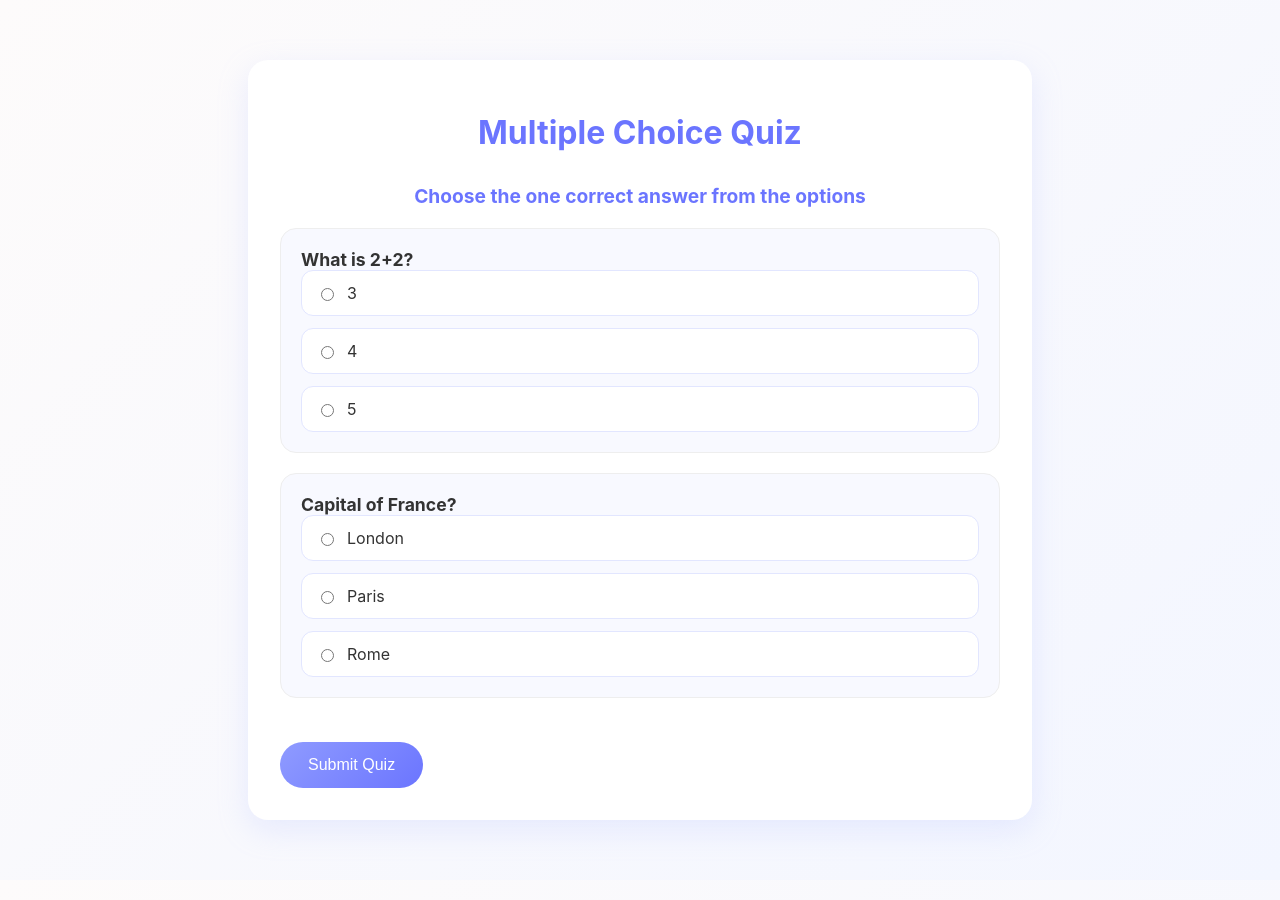
Test: QuizPage Component › calculates score correctly after answering all questions
// Select correct answers
What coordinates should you click on to do the following:
click the radio button labelled "4"
I would click on:
 (328, 352)
Its box is x1=321 y1=346 x2=334 y2=359.
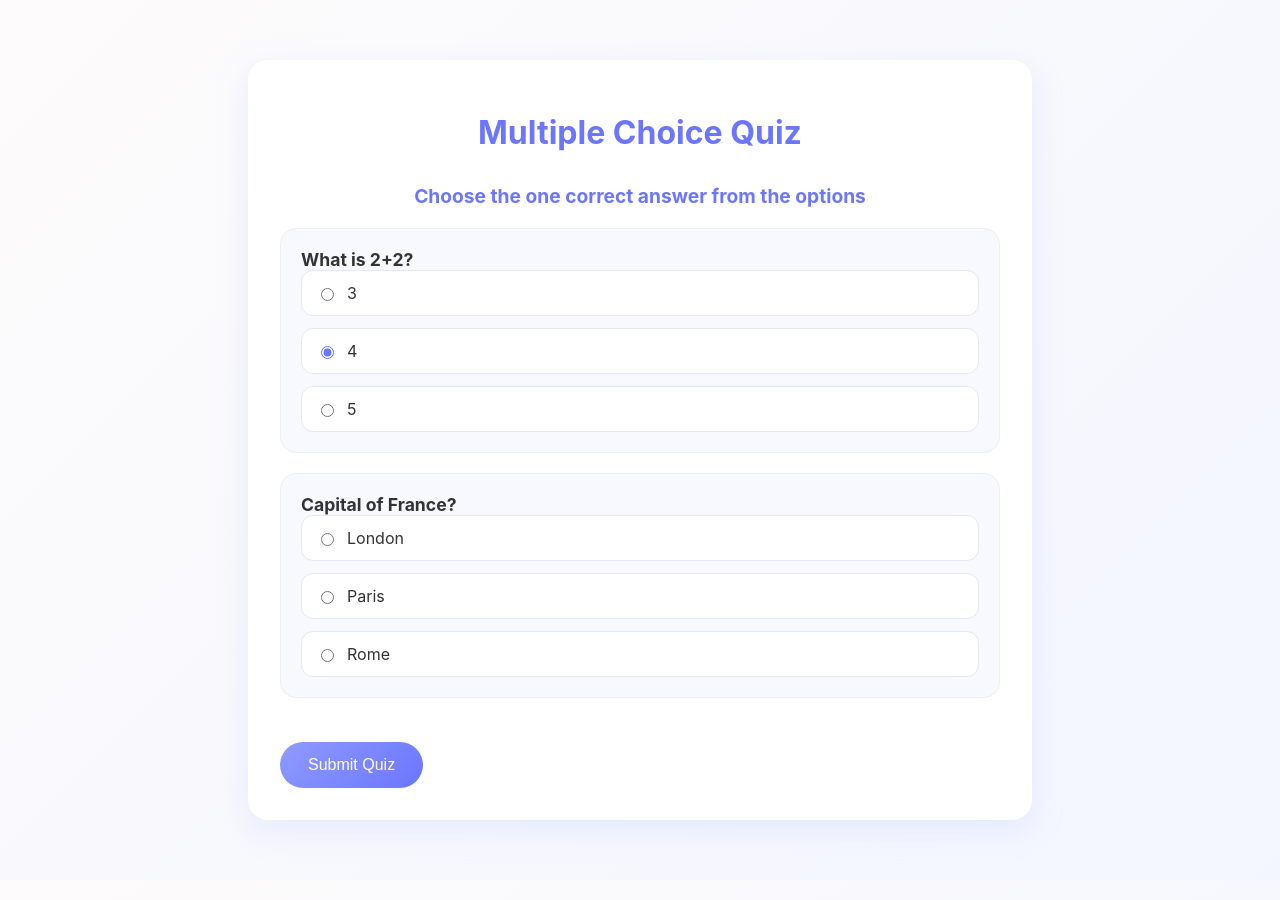
What coordinates should you click on to do the following:
click the radio button labelled "Paris"
I would click on:
 (328, 597)
Its box is x1=321 y1=591 x2=334 y2=604.
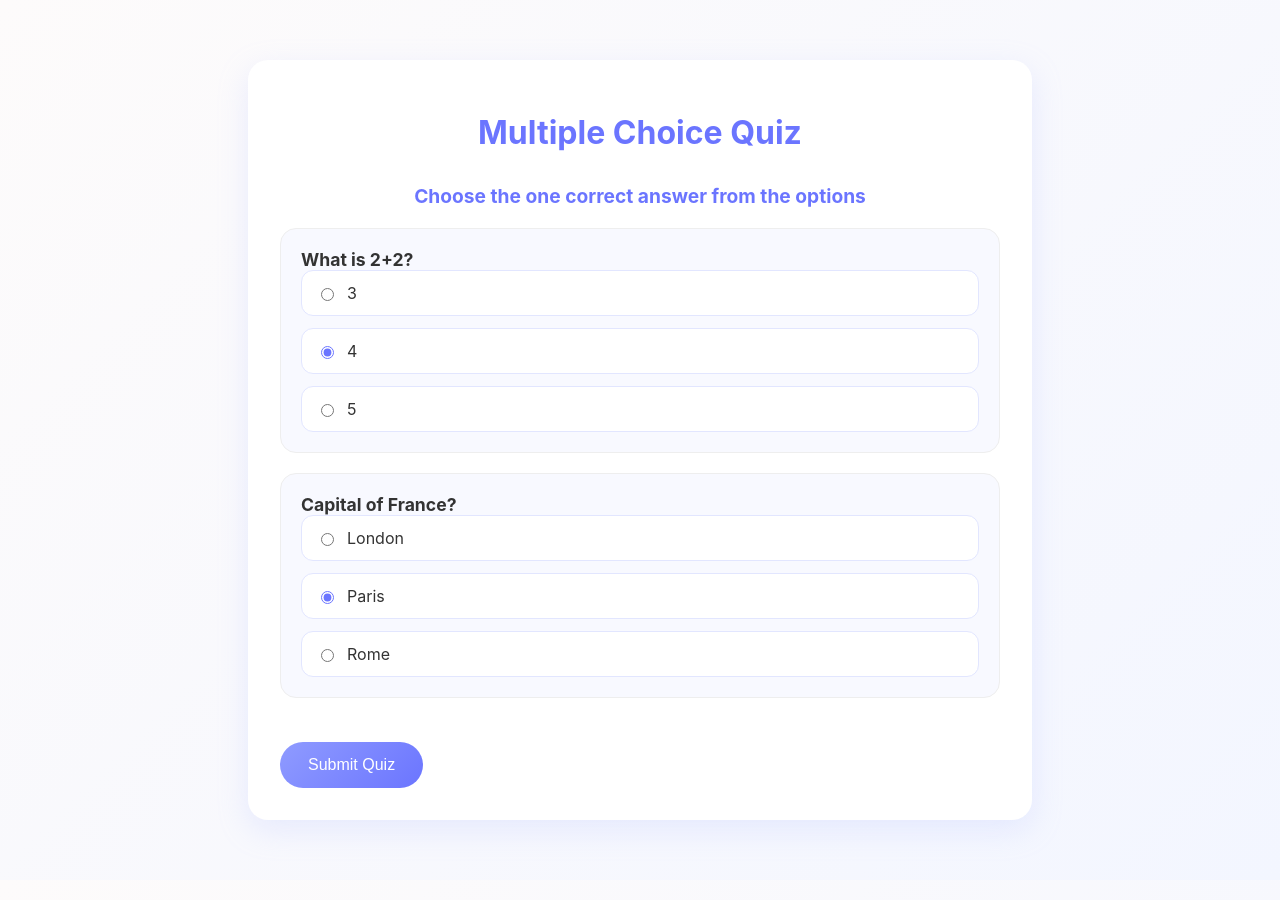
What coordinates should you click on to do the following:
click the button "Submit Quiz"
I would click on:
 (352, 765)
Its box is x1=280 y1=742 x2=423 y2=788.
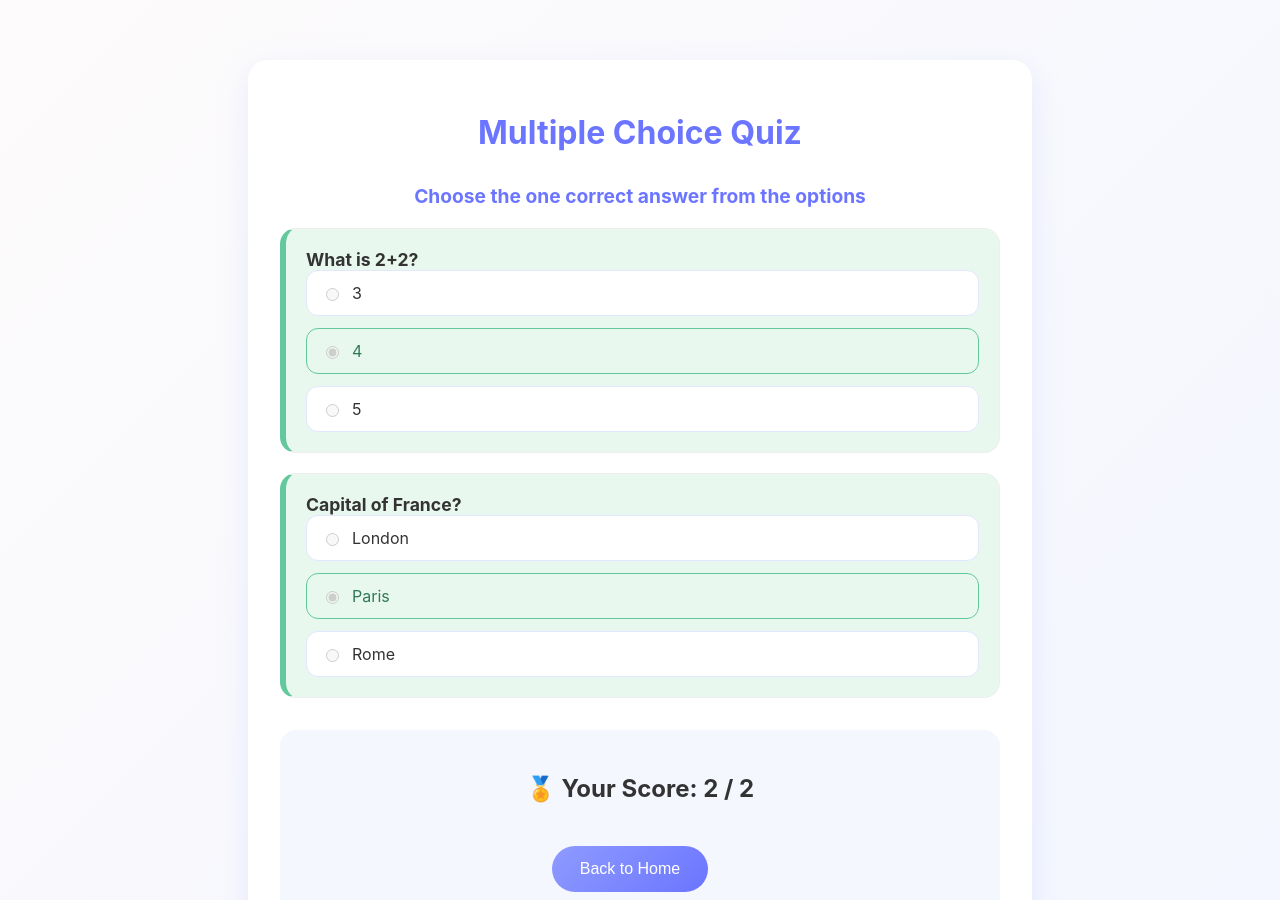
Expected: the heading "🏅 Your Score: 2 / 2" is shown, x1=526 y1=774 x2=754 y2=802
